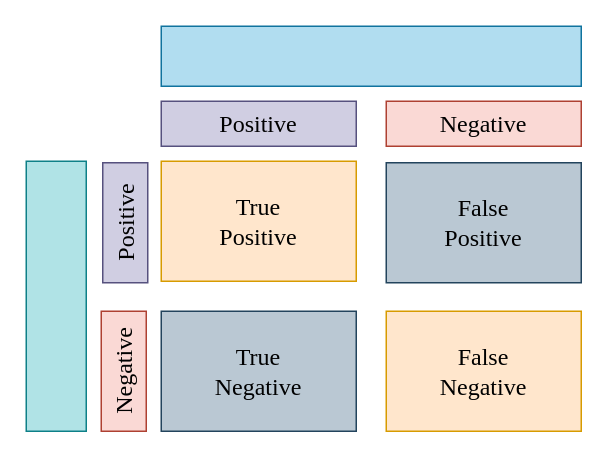
Image size: 608x458. Some labels were removed from this diagram. Here are the shapes that lost their labels. From the top down, the centre of each, then its label:
At (370,55): "Actual".
At (55,295): "Prediction".
